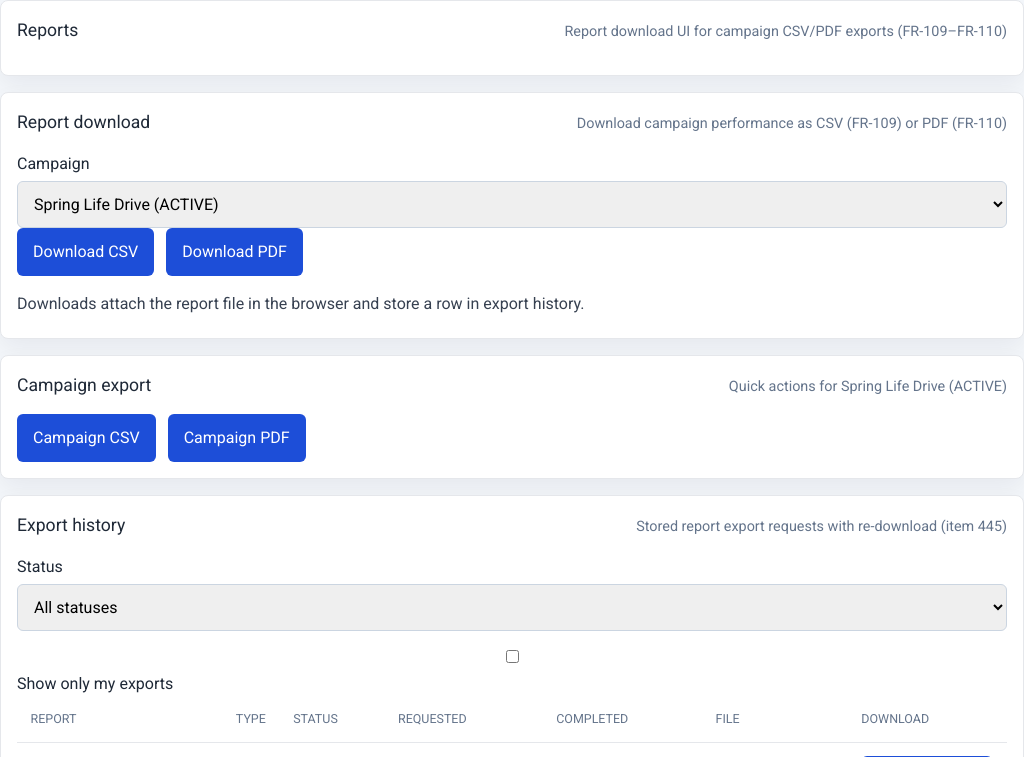
Test: ReportsPage (items 442 / 445) › downloads a campaign PDF attachment
Click the button with aria-label "Download campaign PDF report" at (235, 252), box [166,228,303,276]
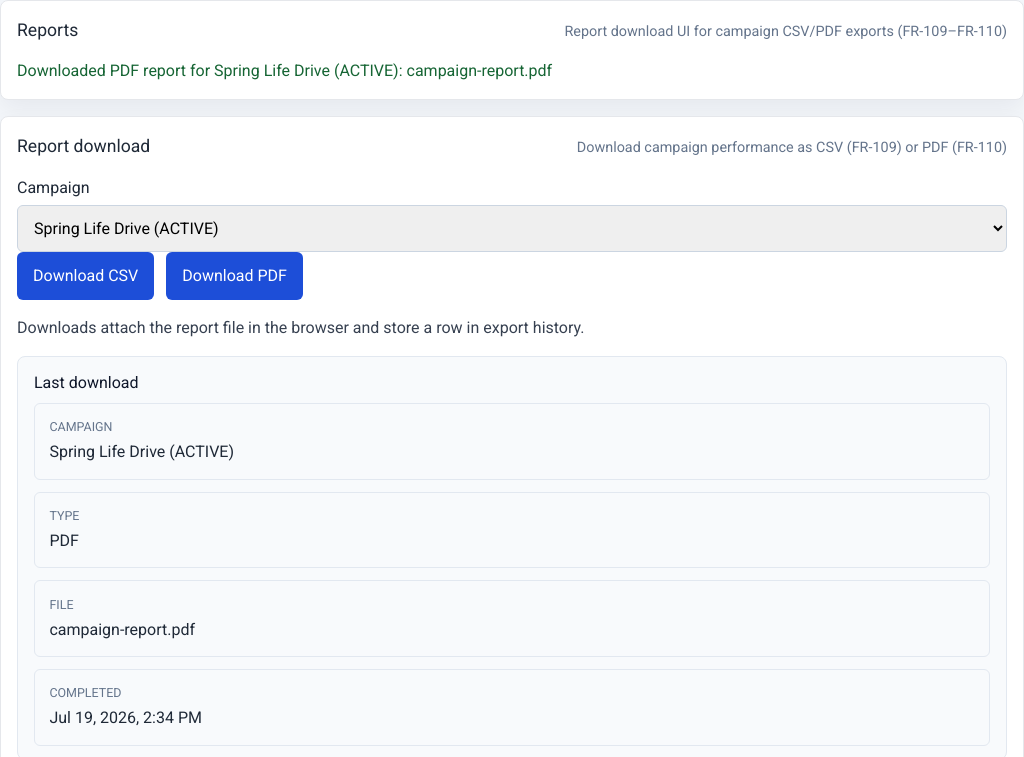
Result: the text "Downloaded PDF report for Spring Life Drive (ACTIVE): campaign-report.pdf" is shown at [17,61,552,80]
